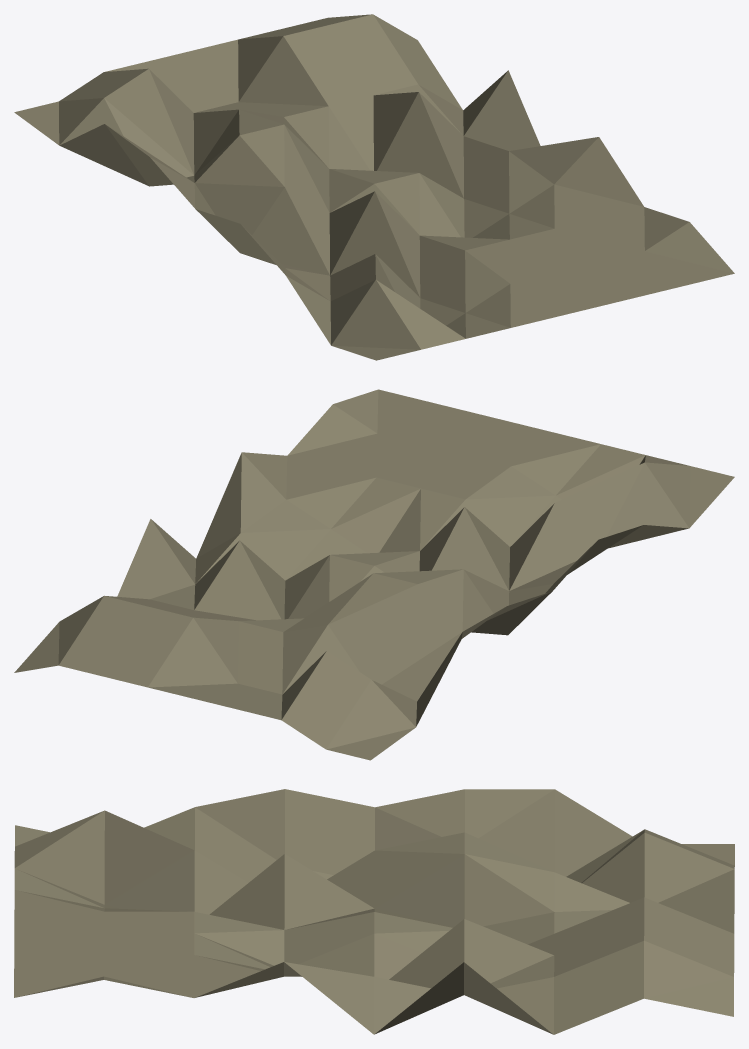
File: bulk-load.dae
The picture shows the model from 3 angles, top to bottom: view 1: azimuth 30°, elevation 25°; view 2: azimuth 150°, elevation 25°; view 3: azimuth 270°, elevation 25°; orthographic projection.
Parts seen in each view (by area): view 1: Plane_002; view 2: Plane_002; view 3: Plane_002.
Part boxes in pixels (bbox=[...]): Plane_002: bbox=[14, 14, 734, 360]; Plane_002: bbox=[14, 389, 734, 760]; Plane_002: bbox=[14, 789, 734, 1034].
Size of the model in its own units: 1.63 by 2.86 by 0.3186.
